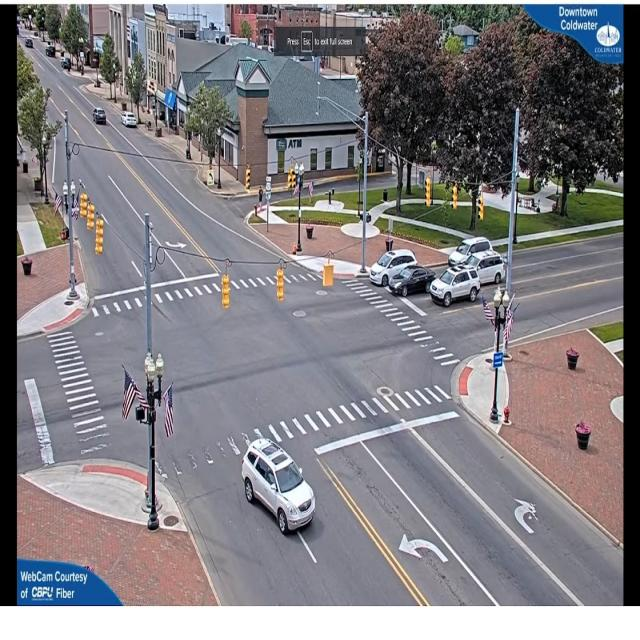car: (242, 438, 316, 532), (430, 262, 481, 308), (385, 263, 436, 300)
